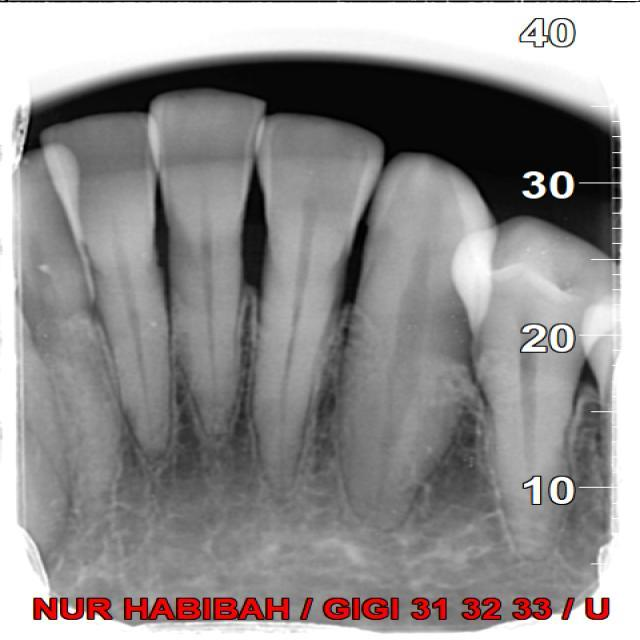individual-tooth-8tto: (348, 156, 503, 505), (249, 107, 385, 490), (42, 113, 172, 452), (148, 89, 268, 427)
